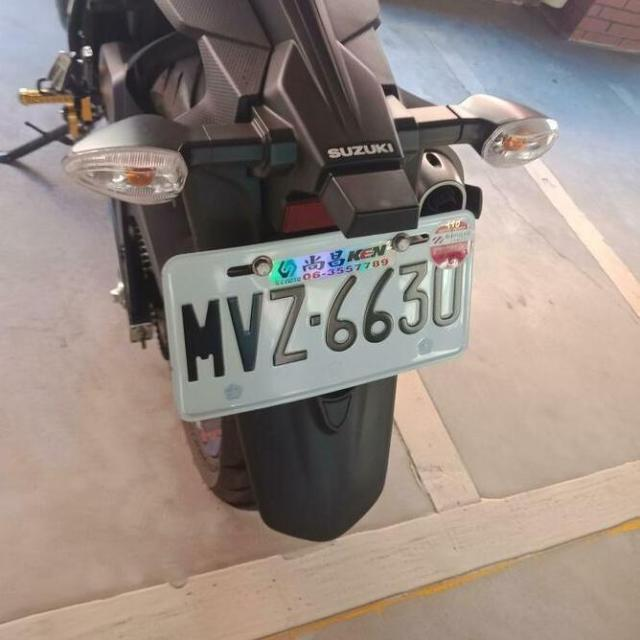W: (150, 210, 490, 427)
